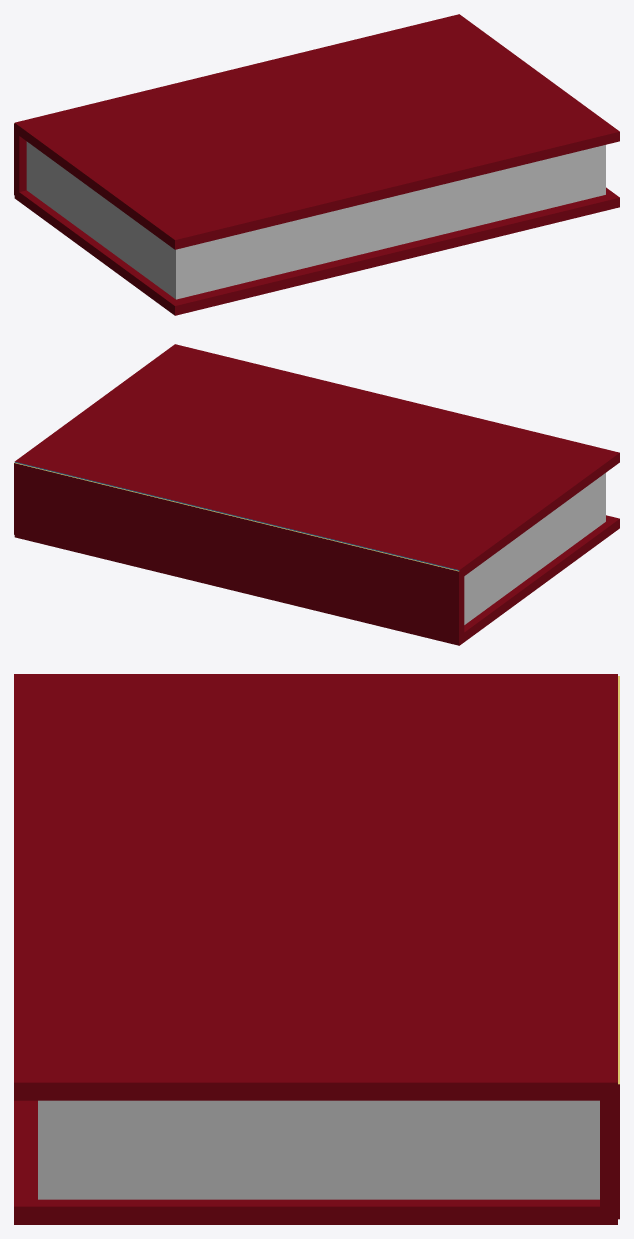
File: book.glb
3 views of the same model, one above another, from view 1: azimuth 30°, elevation 25°; view 2: azimuth 150°, elevation 25°; view 3: azimuth 270°, elevation 25° (orthographic). The views are drawn at different scales.
Parts seen in each view (by area): view 1: cuboid_0, cuboid_2, cuboid_1, cuboid_3; view 2: cuboid_0, cuboid_3, cuboid_2, cuboid_1; view 3: cuboid_0, cuboid_2, cuboid_1, cuboid_3.
Part boxes in pixels (x1,y1,x2,y2): cuboid_0: (14,14,619,249); cuboid_2: (26,141,605,299); cuboid_1: (14,187,619,315); cuboid_3: (14,123,26,198); cuboid_0: (14,344,619,575); cuboid_3: (14,462,464,643); cuboid_2: (464,473,605,624); cuboid_1: (14,515,619,645); cuboid_0: (14,674,617,1100); cuboid_2: (38,1100,599,1199); cuboid_1: (14,1100,617,1224); cuboid_3: (600,676,619,1219).
Bounding box in the file's own units: 1.5 × 0.2438 × 0.9406.
1 material, 1 textured.
